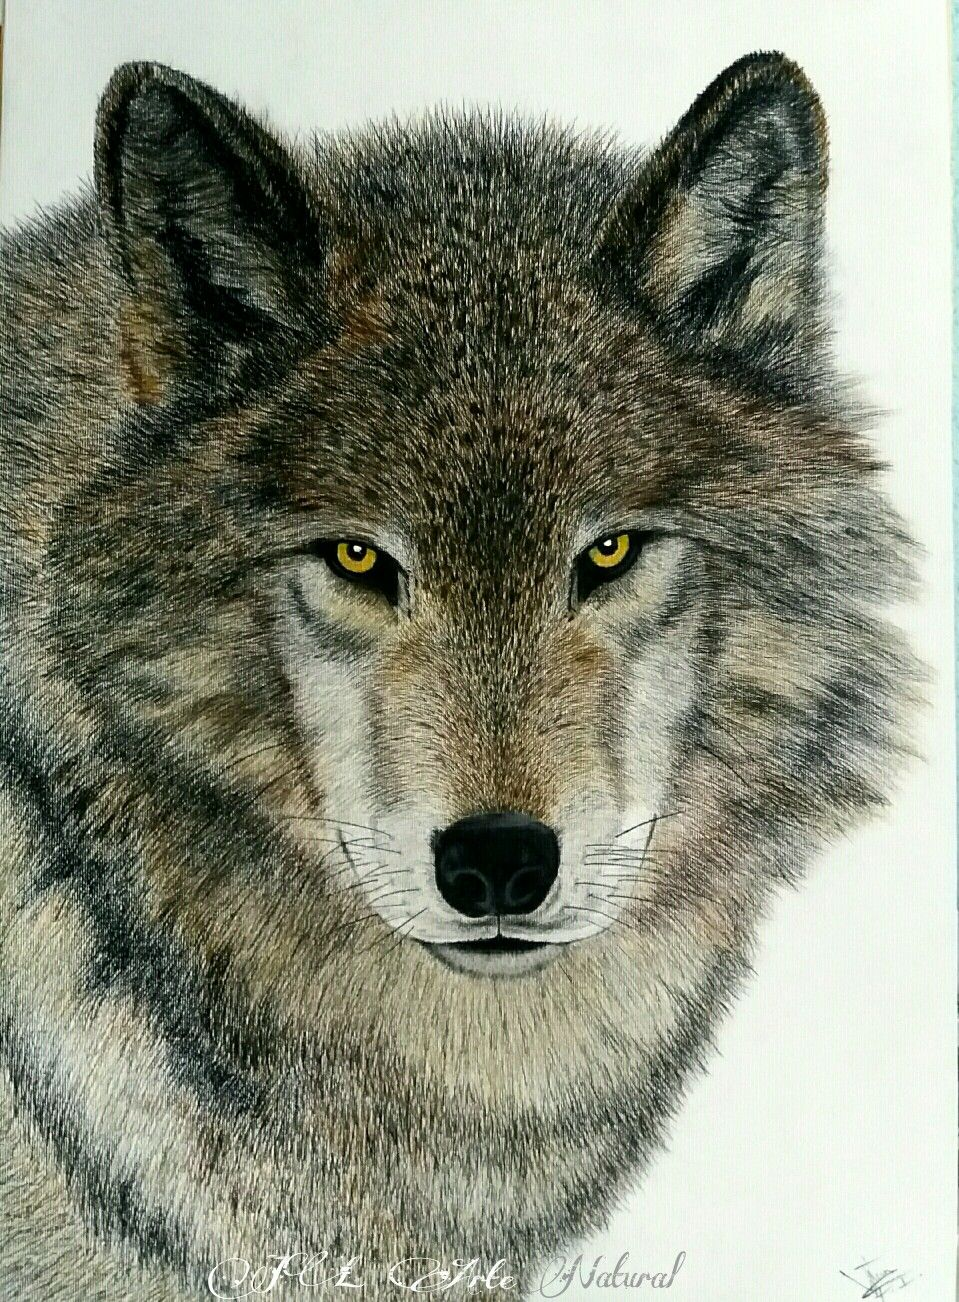Lobo: (96, 23, 924, 1096)
